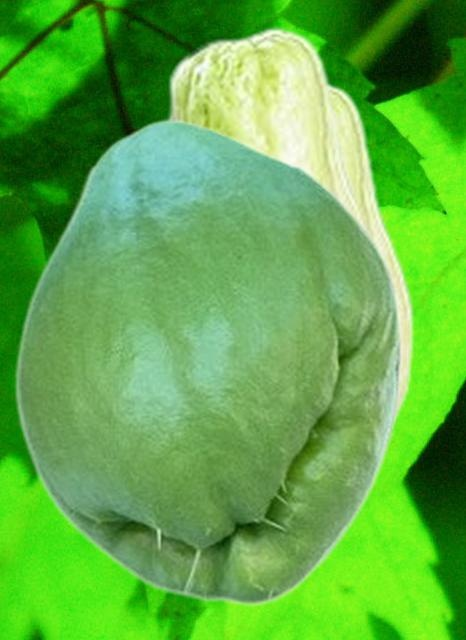sayote: (13, 119, 402, 607), (162, 26, 379, 242), (330, 80, 413, 433)
